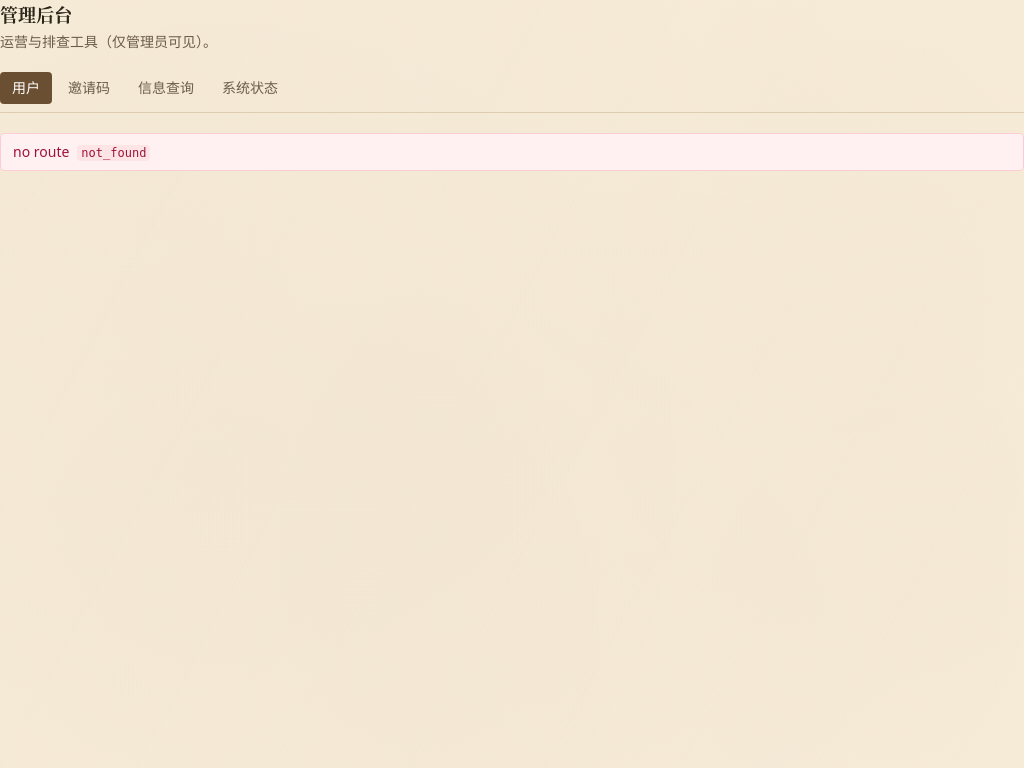
管理员后台（TASK-110 §1.6 改版） › 信息查询：项目表显示归属人名称与占用，且有删除按钮
This screenshot has width=1024, height=768.
Click the button "信息查询": {"x": 166, "y": 88} [126, 72, 206, 104]
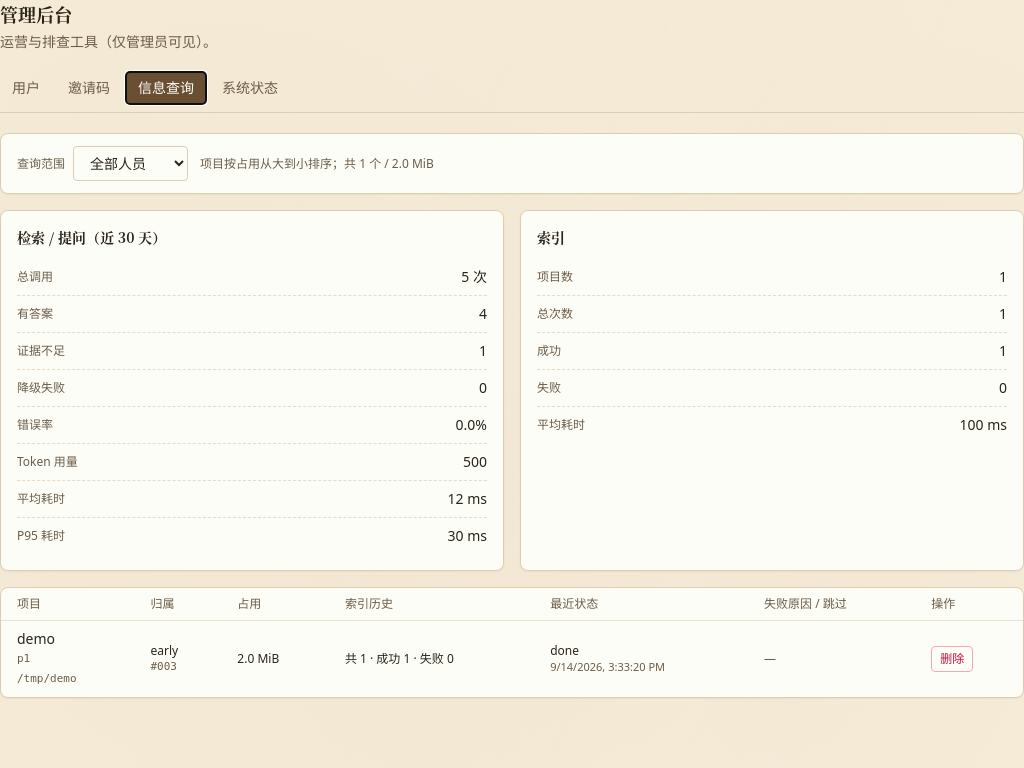
Expected: the text "early" is shown, [150, 642, 178, 659]
Expected: the text "2.0 MiB" is shown, [221, 620, 329, 697]
Expected: the button "删除" is shown, [931, 646, 973, 672]
